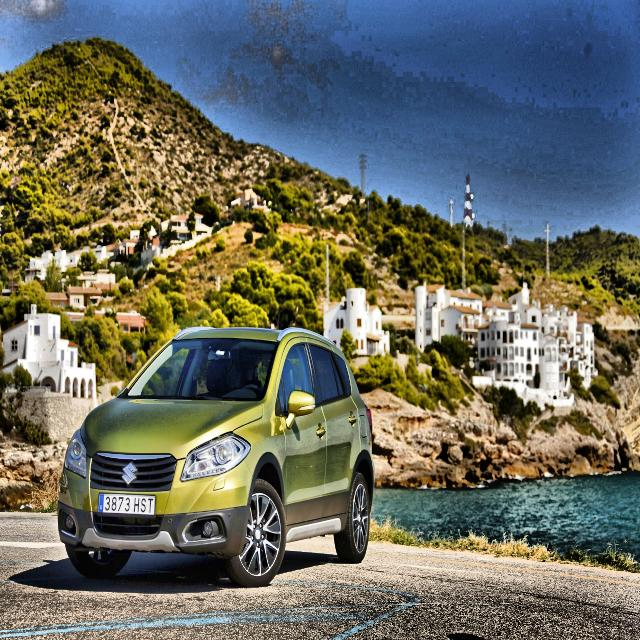Car: (58, 328, 374, 587)
